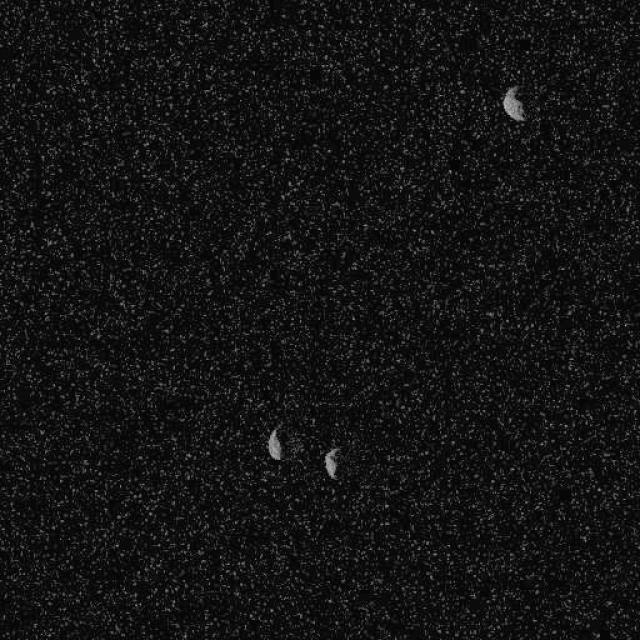D2: (502, 84, 526, 121), (322, 446, 340, 479), (266, 426, 282, 462)
